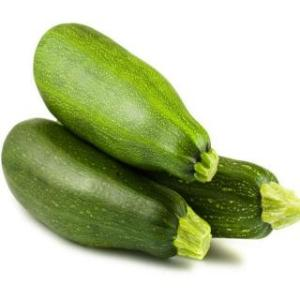zucchini: (28, 22, 220, 183)
